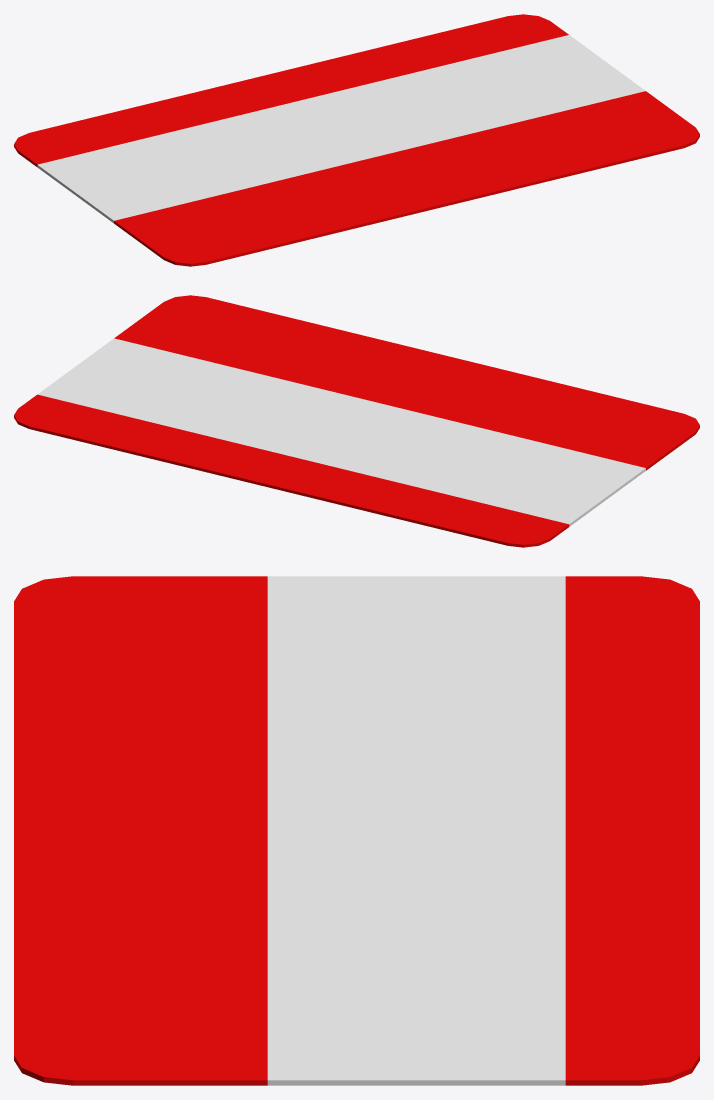
The model's file is KeyCardlvl4.fbx.
3 renders of one model, top to bottom at view 1: azimuth 30°, elevation 25°; view 2: azimuth 150°, elevation 25°; view 3: azimuth 270°, elevation 25°, orthographic. The views are drawn at different scales.
Visible parts, largest first — view 1: CardLVL4; view 2: CardLVL4; view 3: CardLVL4.
Part boxes in pixels (bbox=[...]): CardLVL4: bbox=[14, 14, 699, 266]; CardLVL4: bbox=[14, 295, 699, 547]; CardLVL4: bbox=[14, 576, 699, 1085].
Bounding box in the file's own units: 40 × 0.2 × 23.
